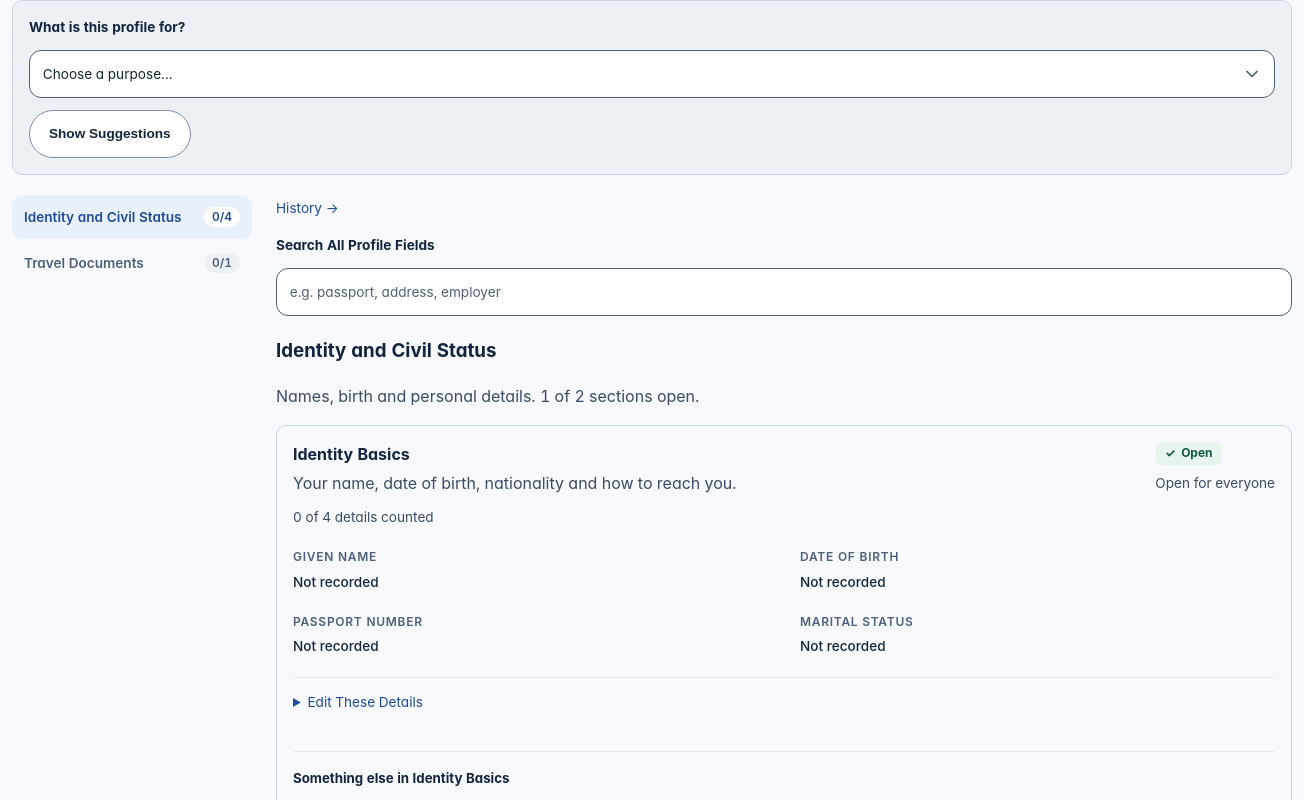
Test: No Longer Current and Ended (LC-G1) › shows an ended entry as Ended with its date, keeps its details editable, and offers no second end
What coordinates should you click on to do the following:
click the tab "Travel Documents 0/1"
I would click on:
 (132, 263)
Its box is top-left (12, 241), bottom-right (252, 285).
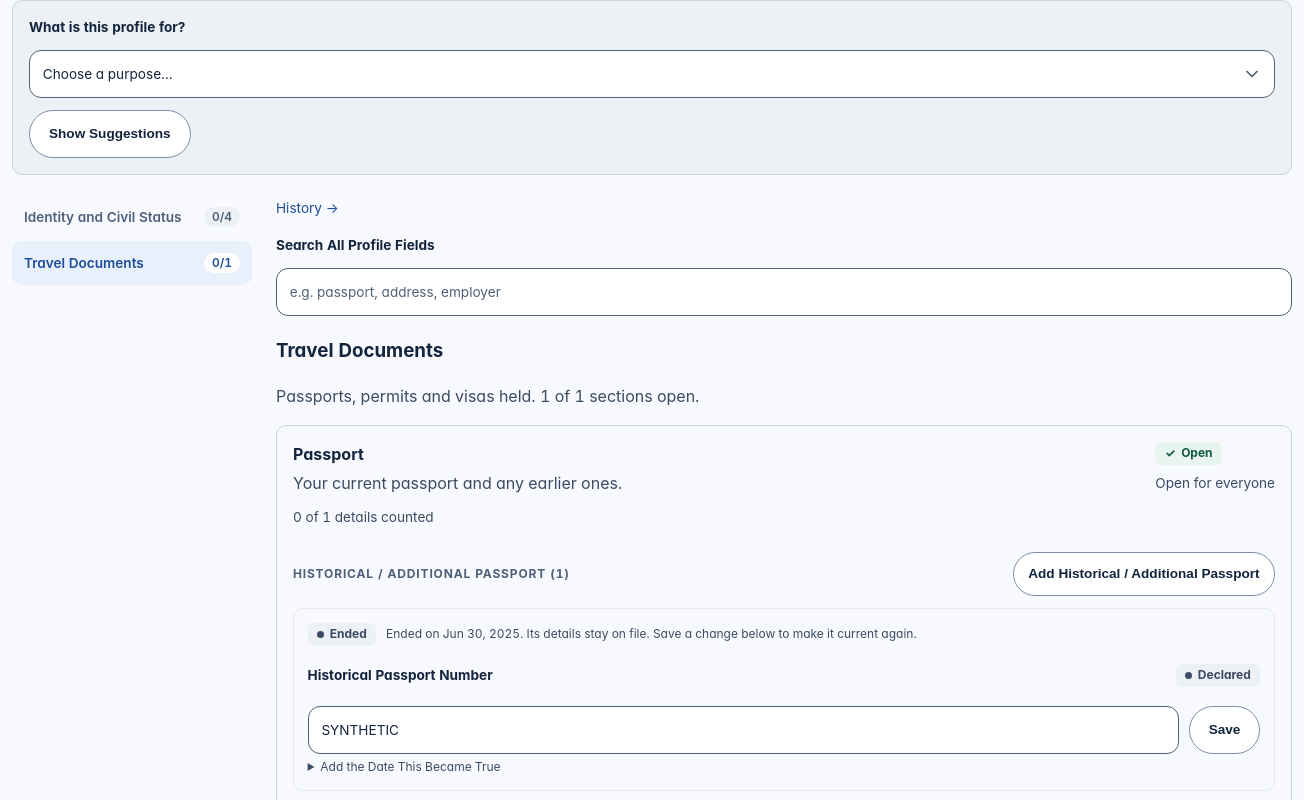
Check: the text with class "badge" reads "Ended", box top-left (330, 626), bottom-right (367, 641)
Check: the panel shows "Save a change below to make it current again.", box top-left (520, 626), bottom-right (917, 641)
Check: the field with id "f-historical_passport_number-existing-record" holds "SYNTHETIC", box top-left (308, 706), bottom-right (1179, 754)
